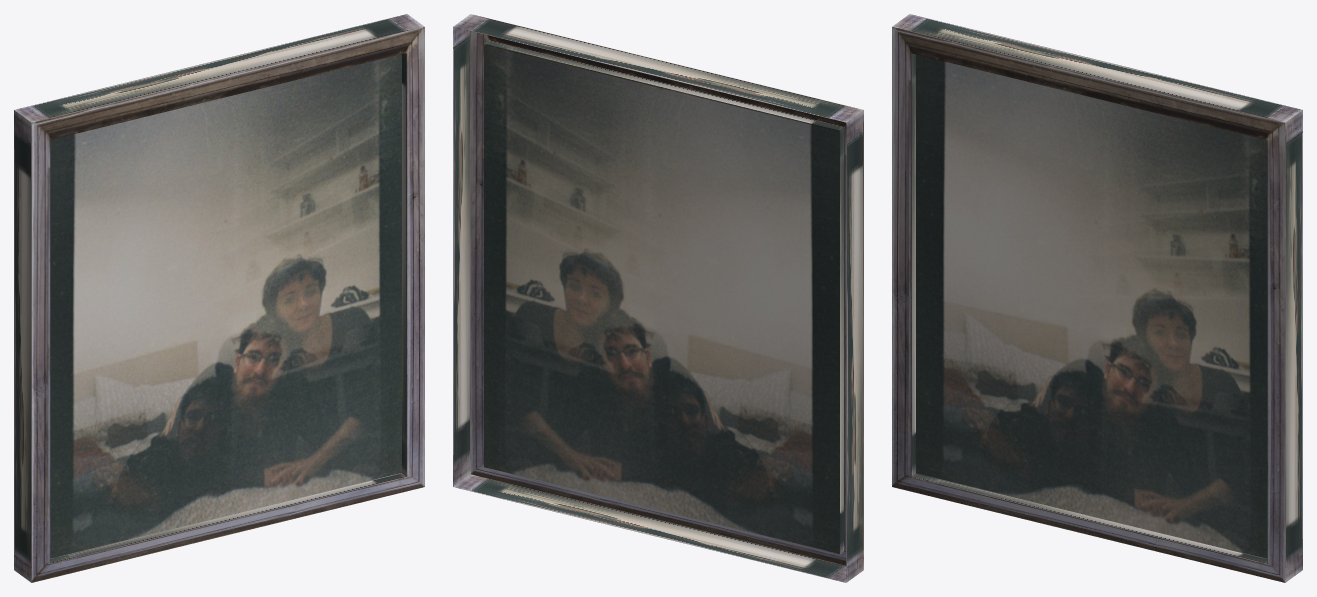
Rendered from Cuadro_pequeno.FBX.
The picture shows the model from 3 angles, left to right: view 1: azimuth 30°, elevation 25°; view 2: azimuth 150°, elevation 25°; view 3: azimuth 330°, elevation 25°; orthographic projection.
Parts seen in each view (by area): view 1: Cuadro_pequeno; view 2: Cuadro_pequeno; view 3: Cuadro_pequeno.
Part boxes in pixels (x1,y1,x2,y2): Cuadro_pequeno: (14, 14, 424, 582); Cuadro_pequeno: (453, 14, 863, 582); Cuadro_pequeno: (892, 14, 1302, 582).
Bounding box in the file's own units: 65 × 72.7 × 5.
